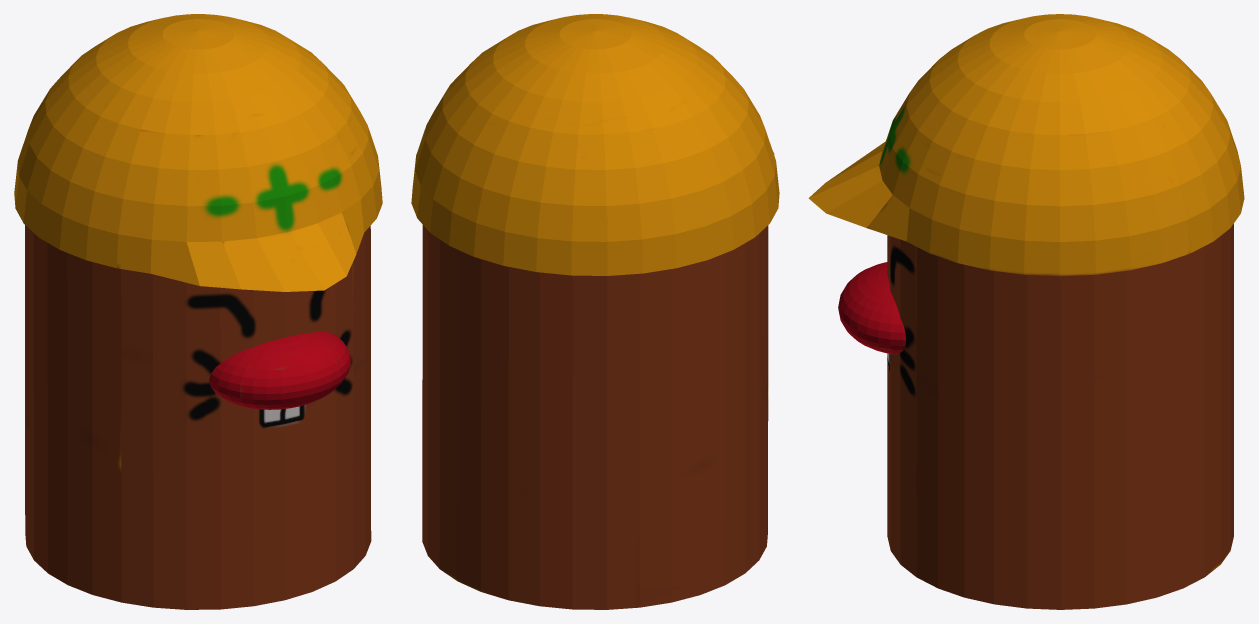
Rendered from thing1.glb.
3 views of the same model, side by side, from view 1: azimuth 30°, elevation 25°; view 2: azimuth 150°, elevation 25°; view 3: azimuth 270°, elevation 25° (orthographic).
Parts seen in each view (by area): view 1: Sphere; view 2: Sphere; view 3: Sphere.
Part boxes in pixels (left/top/right/bottom): Sphere: left=14, top=14, right=382, bottom=609; Sphere: left=411, top=14, right=779, bottom=609; Sphere: left=808, top=14, right=1244, bottom=609.
Size of the model in its own units: 2.13 by 3.22 by 2.52.
1 material, 1 textured.
